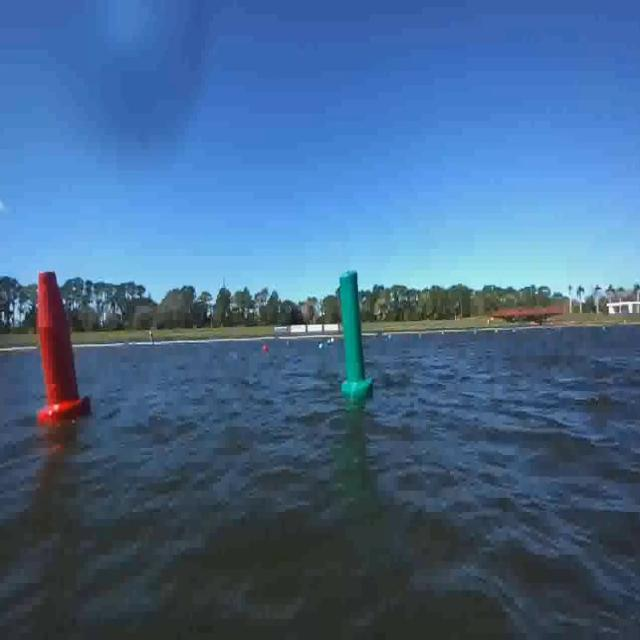green-column-buoy: (339, 272, 373, 398)
red-column-buoy: (36, 270, 91, 426)
